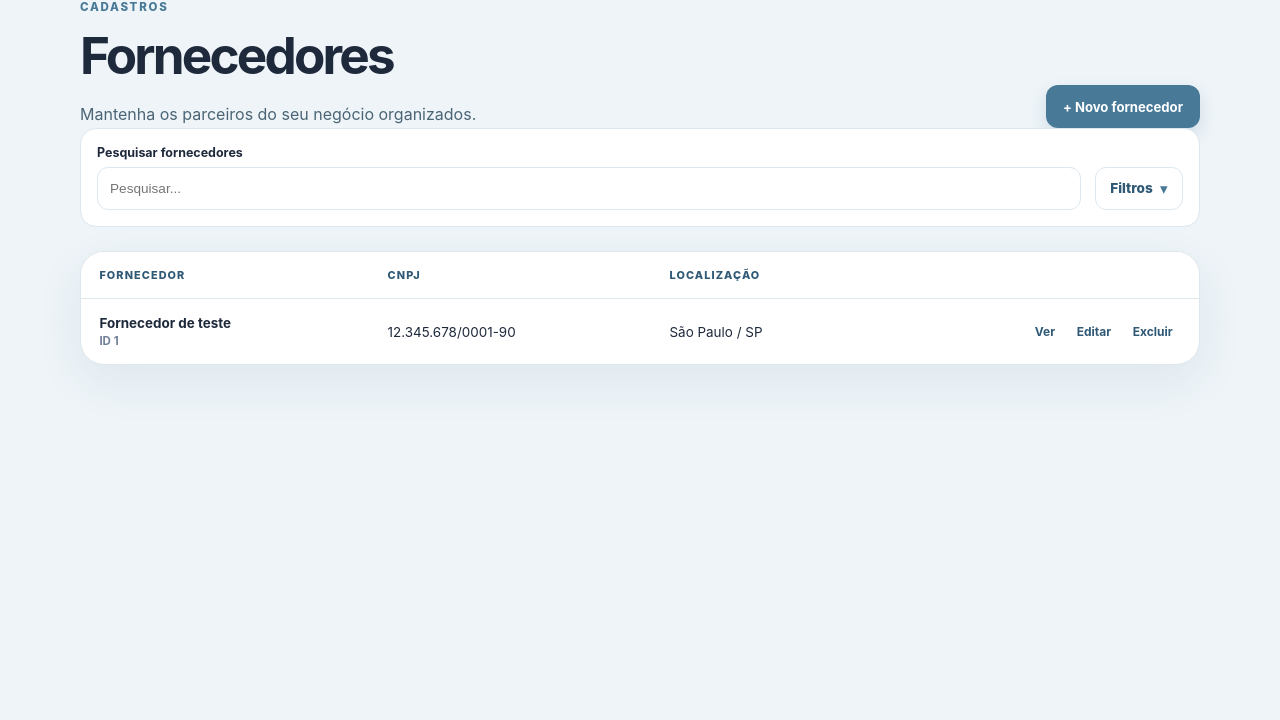
SuppliersPage relational details › shows supplied products in the supplier detail
Check: the text "Fornecedor de teste" is shown, box [99, 315, 231, 331]
Click the button "Ver" at {"x": 1045, "y": 332}, box [1027, 318, 1063, 345]
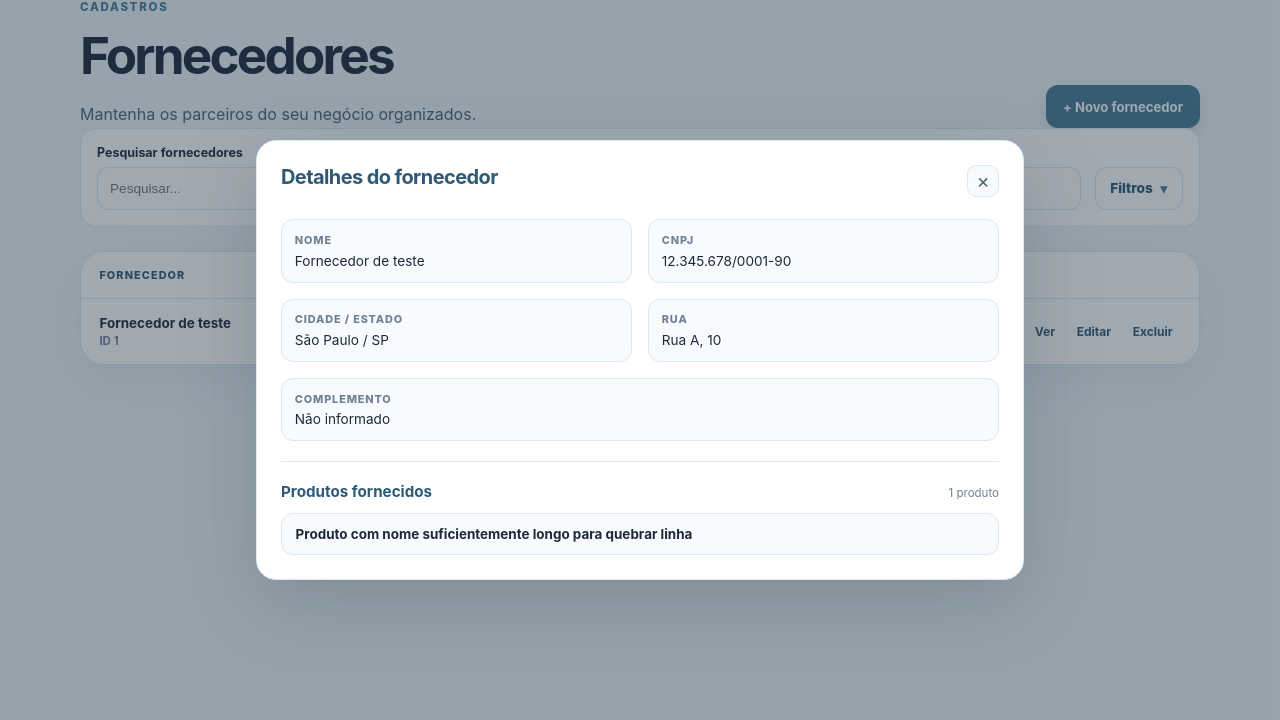
Check: the heading "Produtos fornecidos" is shown, box [281, 482, 432, 501]
Check: the text "Produto com nome suficientemente longo para quebrar linha" is shown, box [296, 526, 692, 542]
